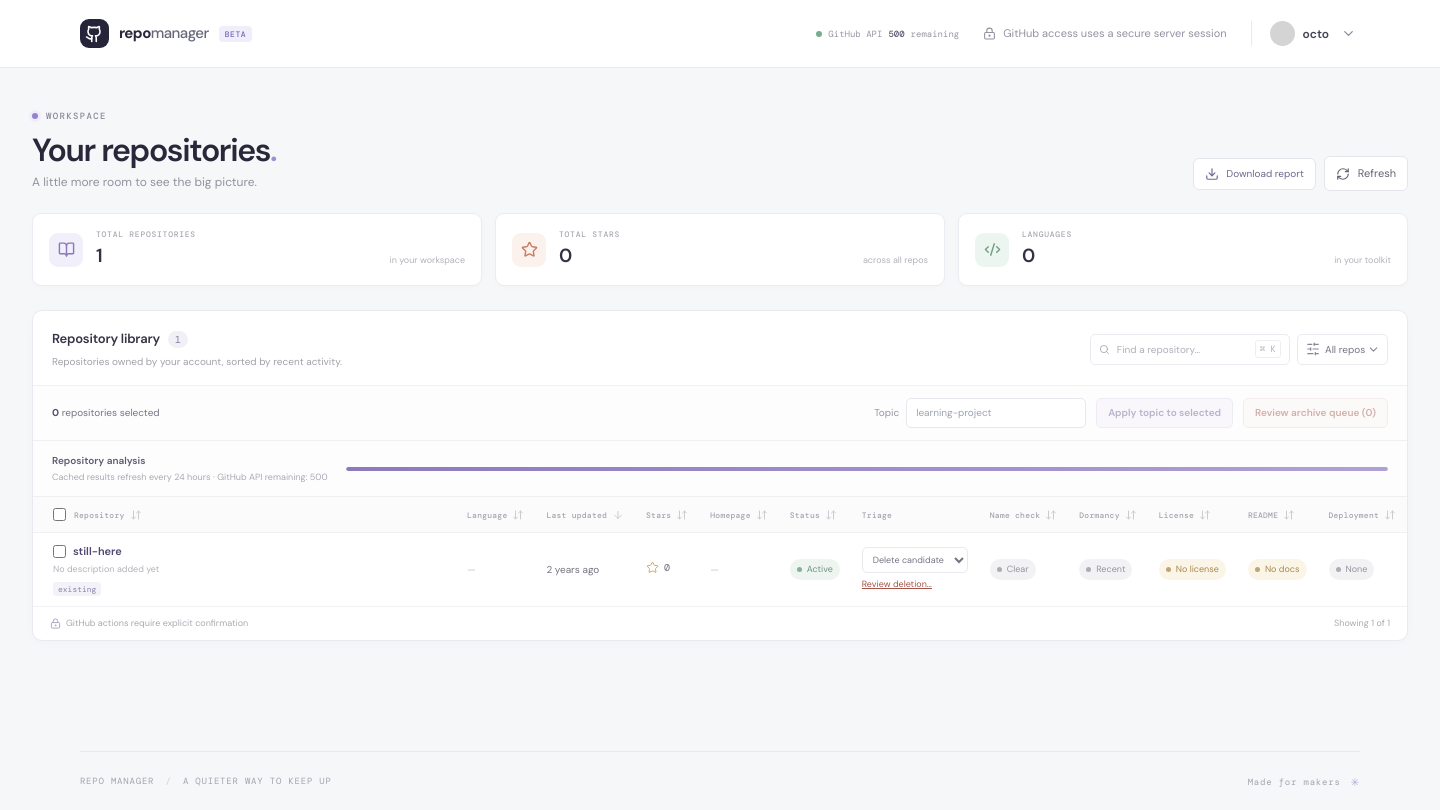
Test: repository write-action UI › keeps the repo and reports an expired token instead of logging a failed delete
The width and height of the screenshot is (1440, 810).
Expected: the heading "Repository library" is shown, [52,329,160,349]
Click the button "Review deletion…". click: (897,585)
box: [862,578,932,592]
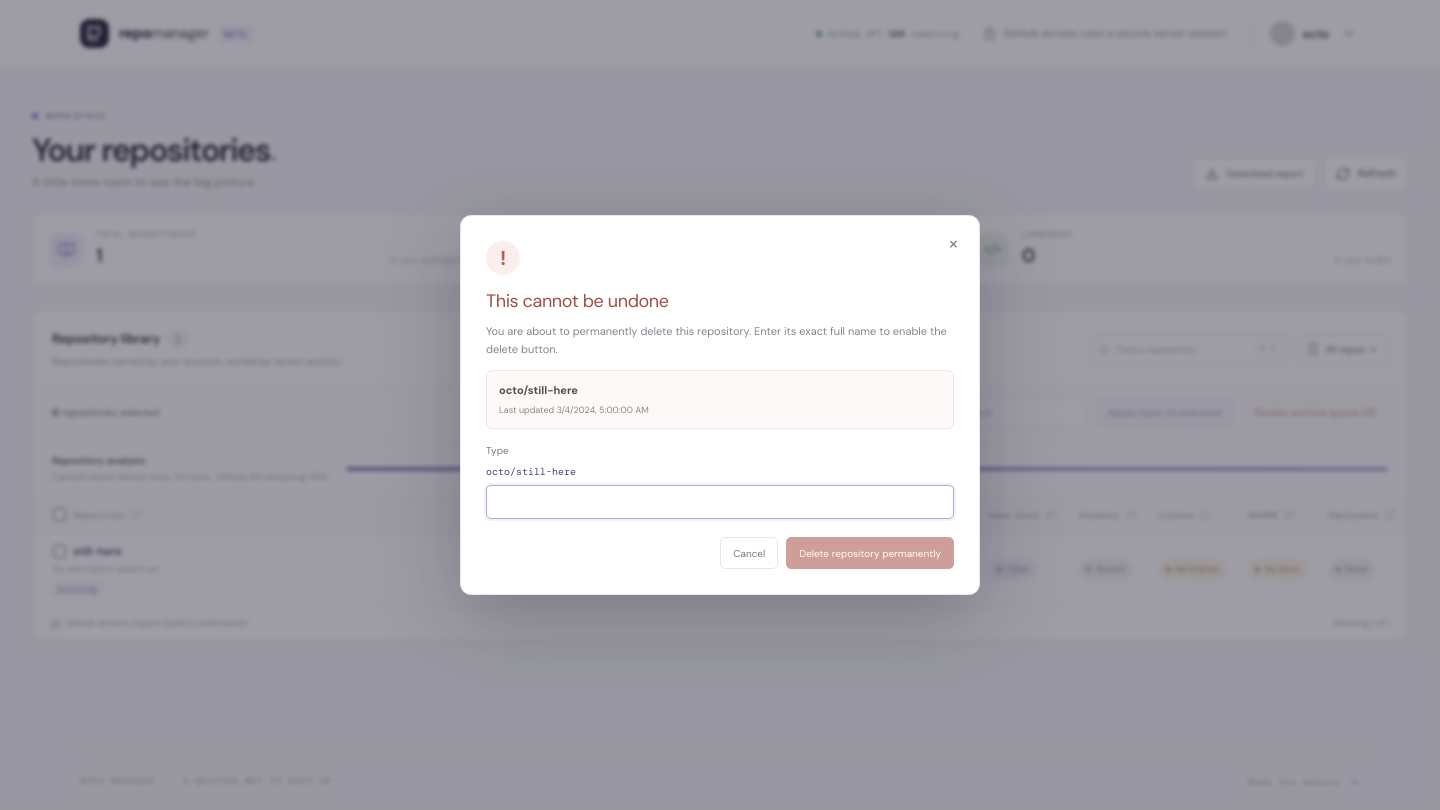
Type "octo/still-here" into the field labelled "Type octo/still-here". click: (720,502)
box: [486,485,954,519]
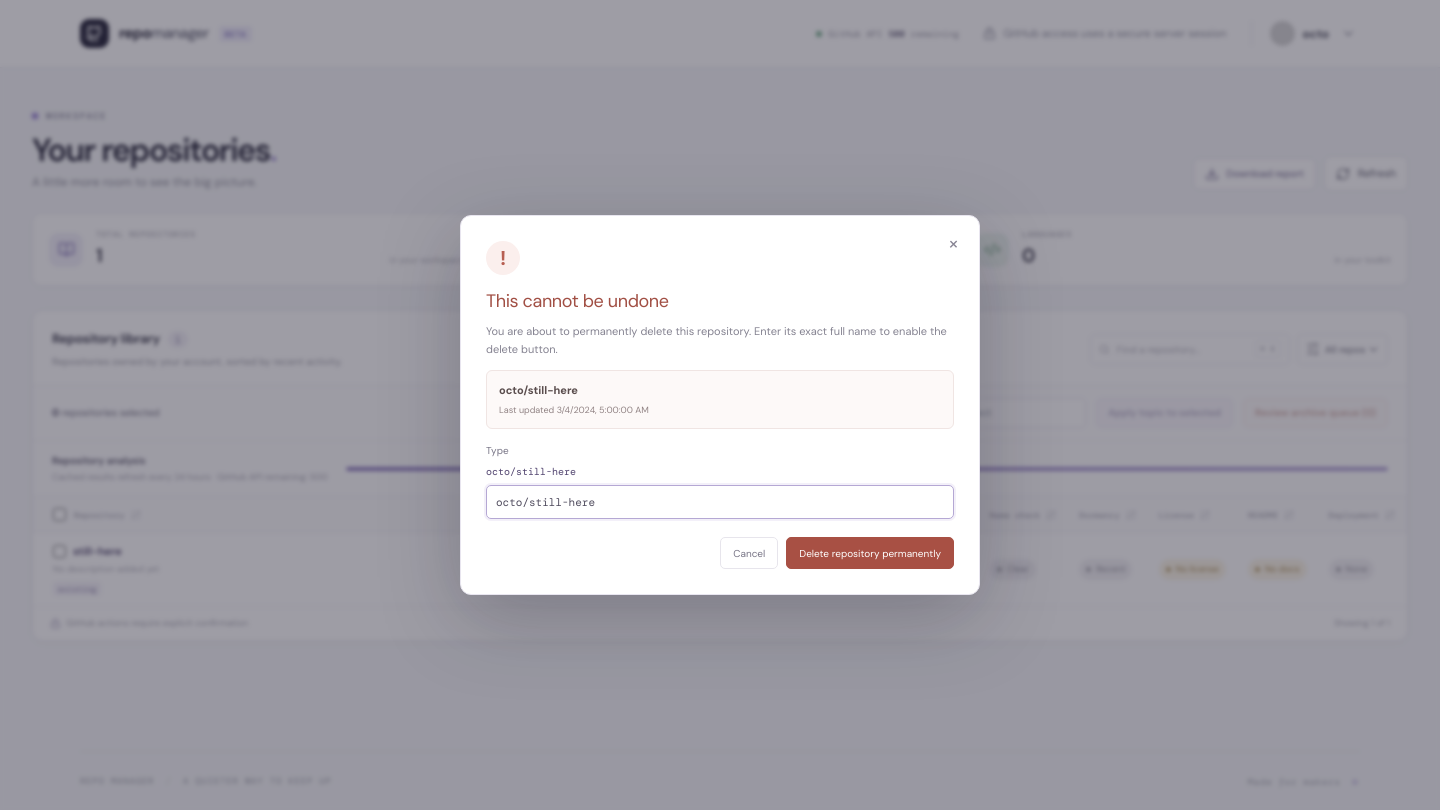
Click the button "Delete repository permanently". click: (870,553)
box: [786,537,954,569]
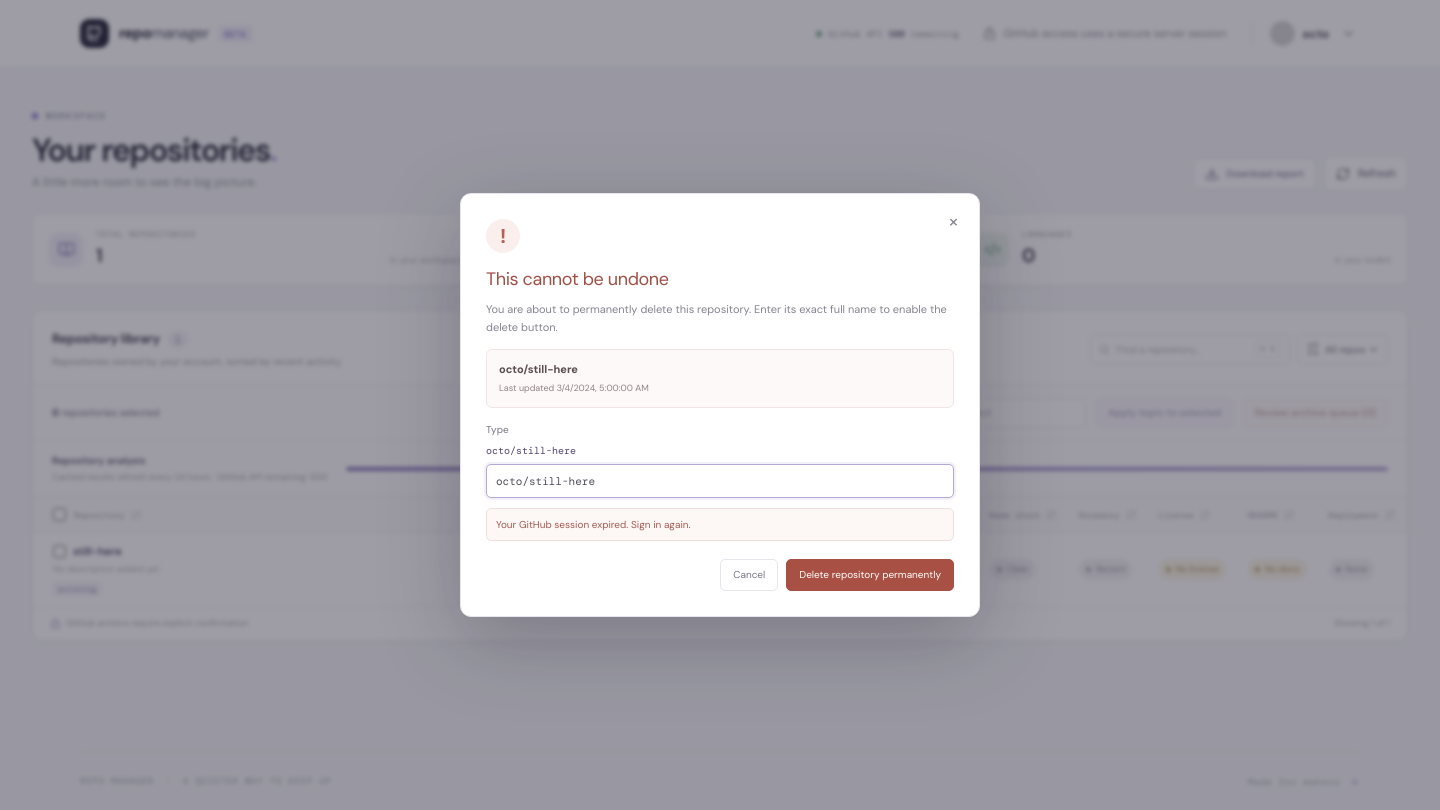
Expected: the message reads "Your GitHub session expired. Sign in again.", [496,518,690,531]
